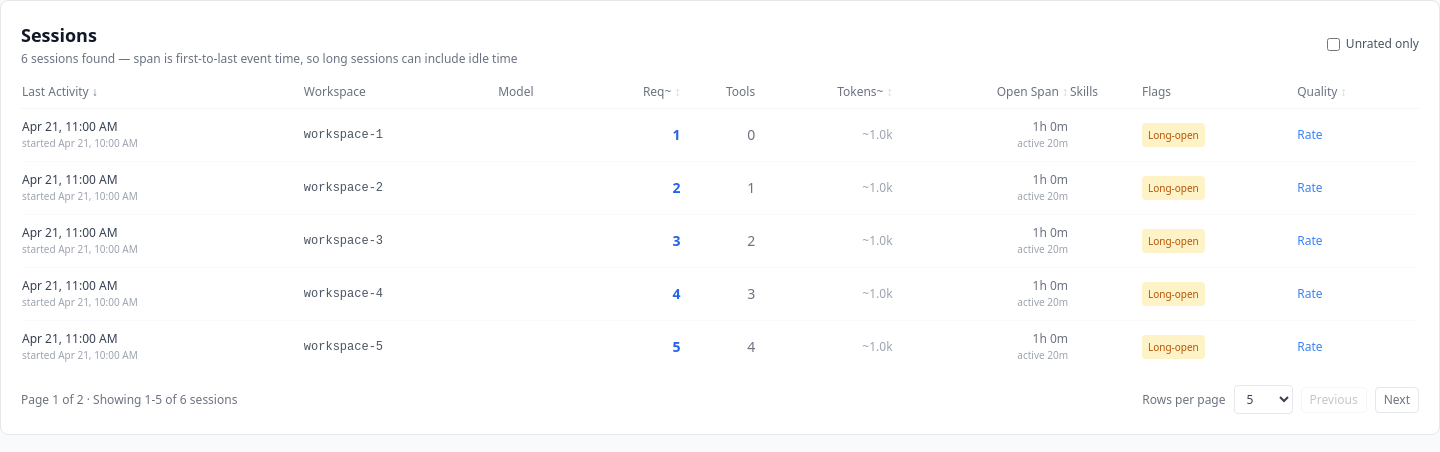
Test: SessionList pagination › pages through long session lists
This screenshot has width=1440, height=452.
Check: the text "workspace-1" is shown, box [303, 108, 497, 162]
Check: the text "workspace-6" is not shown
Click the button "Next": [1397, 400] box [1375, 386, 1419, 412]
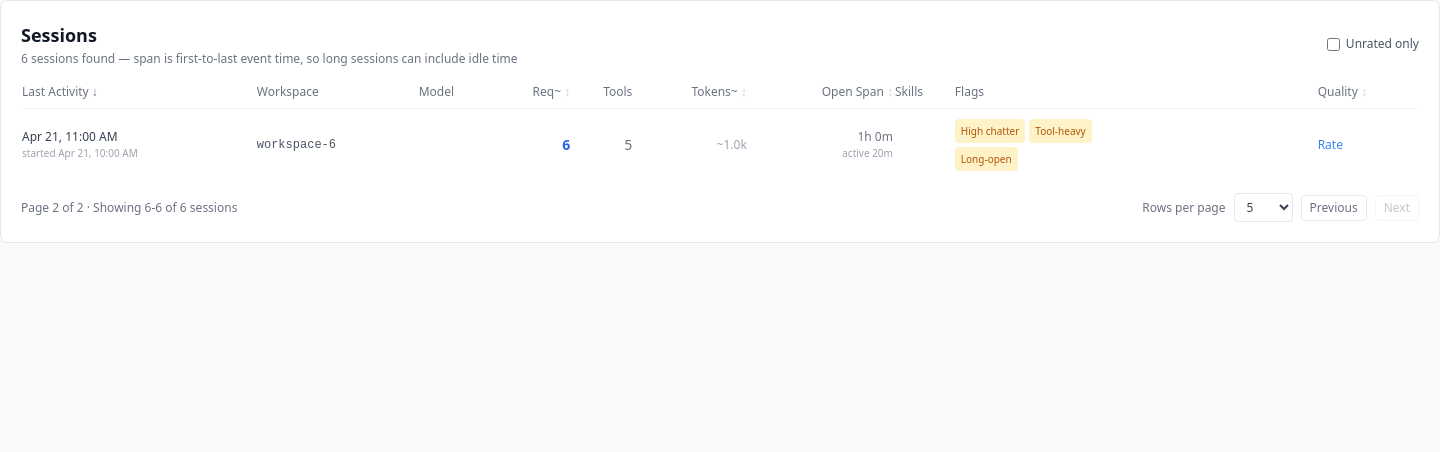
Check: the text "workspace-6" is shown, box [256, 108, 418, 181]
Check: the text "workspace-1" is gone
